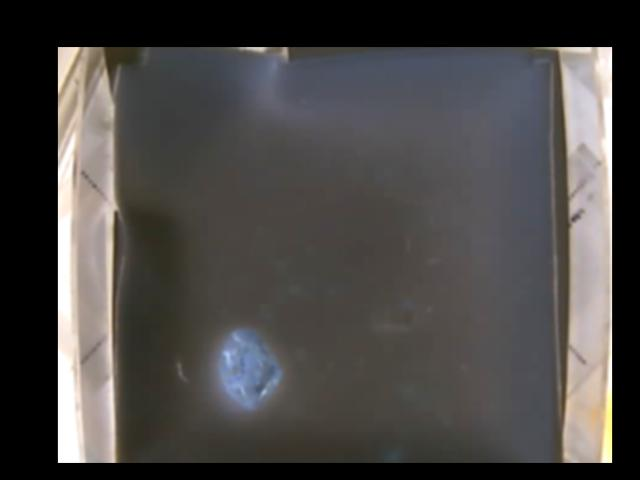Pebble: (219, 325, 282, 408)
